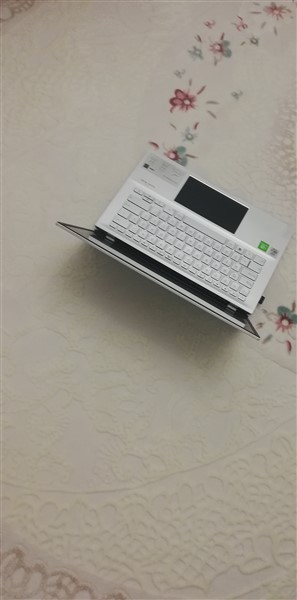laptop: (53, 145, 288, 348)
